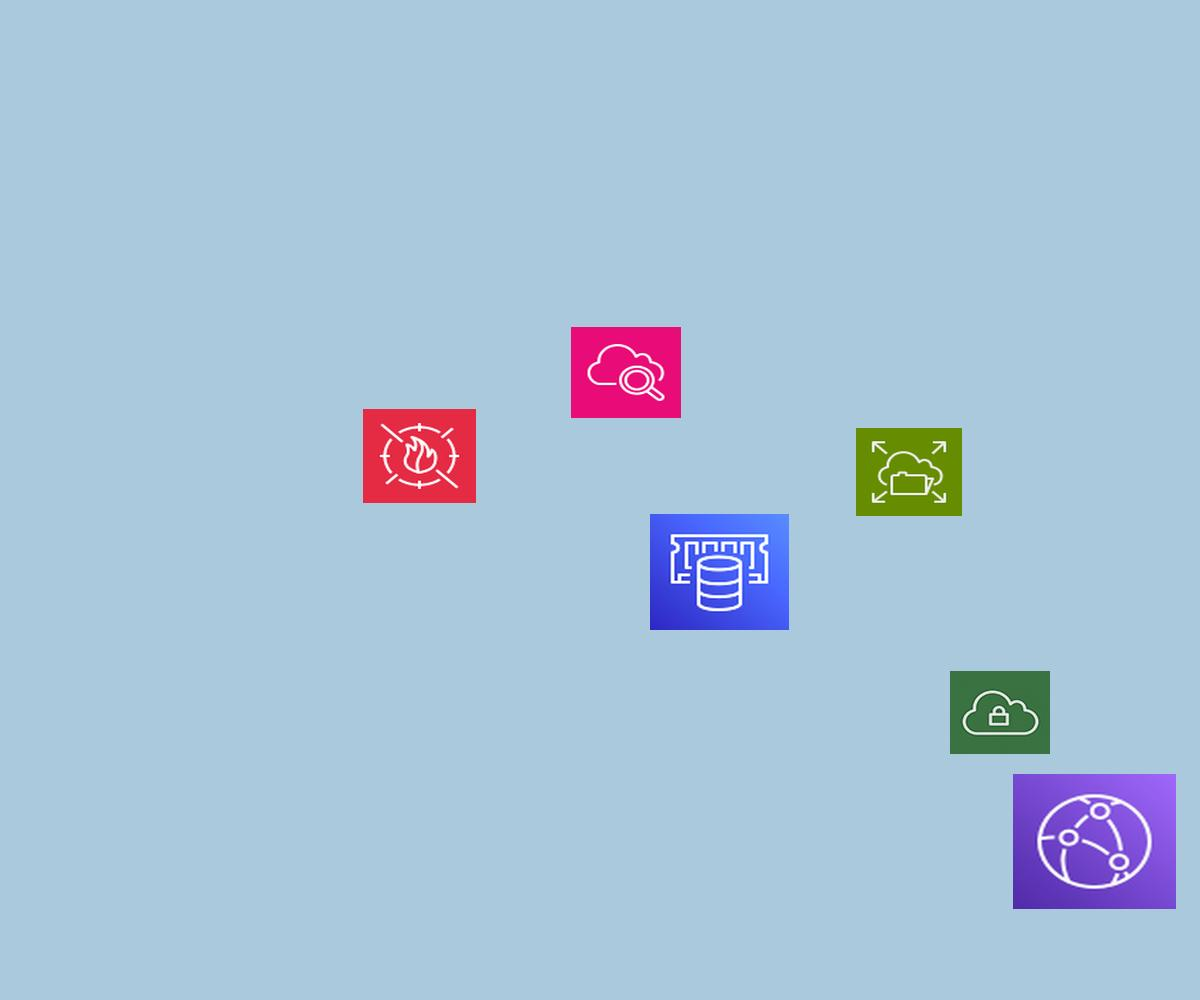AWS-CloudFront: (1013, 774, 1176, 909)
AWS-CloudWatch: (571, 327, 681, 418)
AWS-EFS: (856, 428, 962, 516)
AWS-ElastiCache: (650, 514, 789, 630)
AWS-Private_vpc: (950, 671, 1050, 754)
AWS-WAF: (363, 409, 476, 503)
